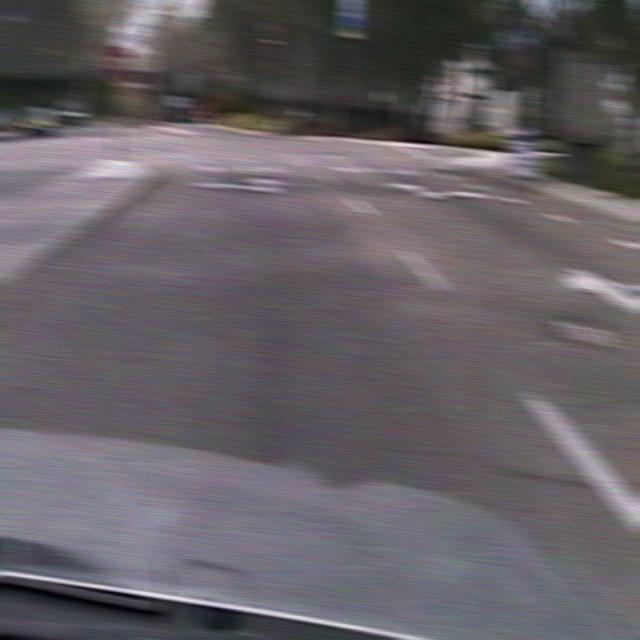stop_sign: (101, 44, 135, 83)
